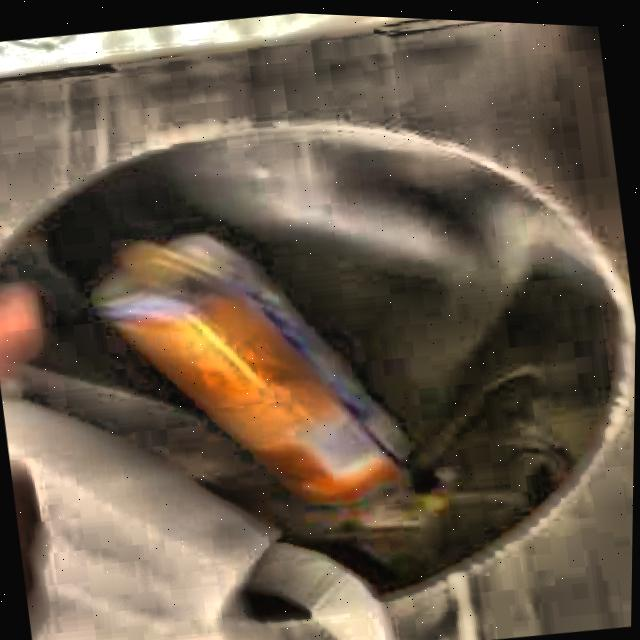metal: (97, 234, 412, 497)
